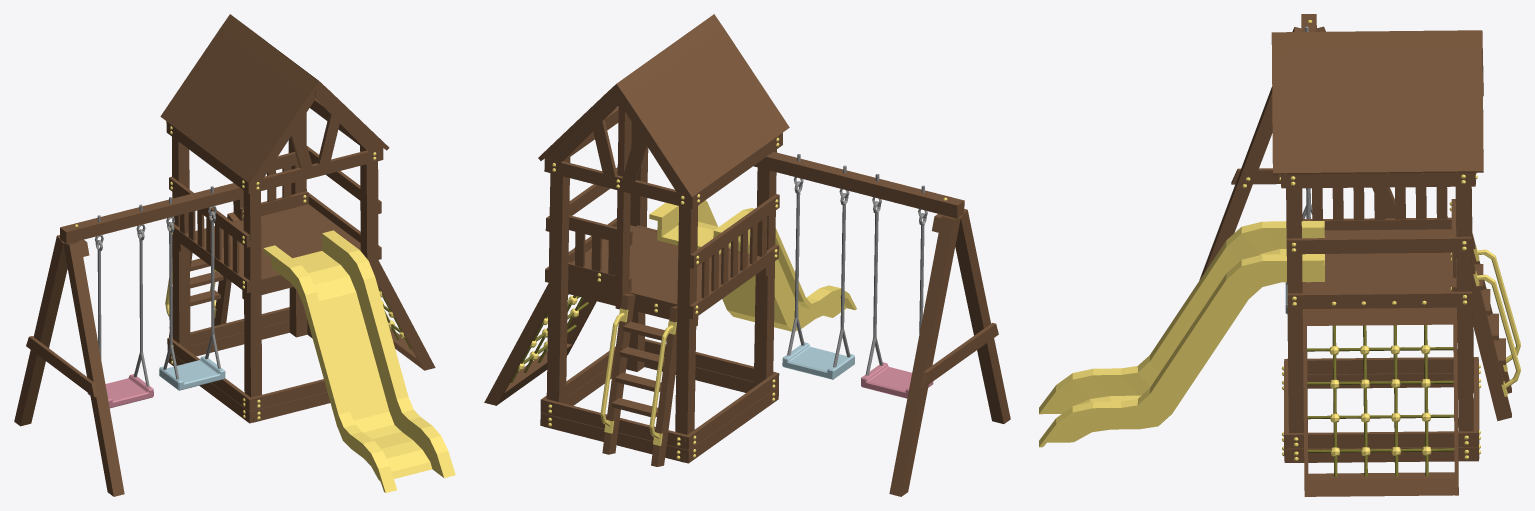
Rendered from Children_Playground_stairs.fbx.
3 renders of one model, left to right at view 1: azimuth 30°, elevation 25°; view 2: azimuth 150°, elevation 25°; view 3: azimuth 270°, elevation 25°, orthographic. The views are drawn at different scales.
Parts seen in each view (by area): view 1: Children_Playground_stairs; view 2: Children_Playground_stairs; view 3: Children_Playground_stairs.
Part boxes in pixels (x1,y1,x2,y2): Children_Playground_stairs: [14, 14, 455, 496]; Children_Playground_stairs: [484, 14, 1010, 496]; Children_Playground_stairs: [1039, 14, 1520, 496].
Size of the model in its own units: 391 by 370 by 337.
